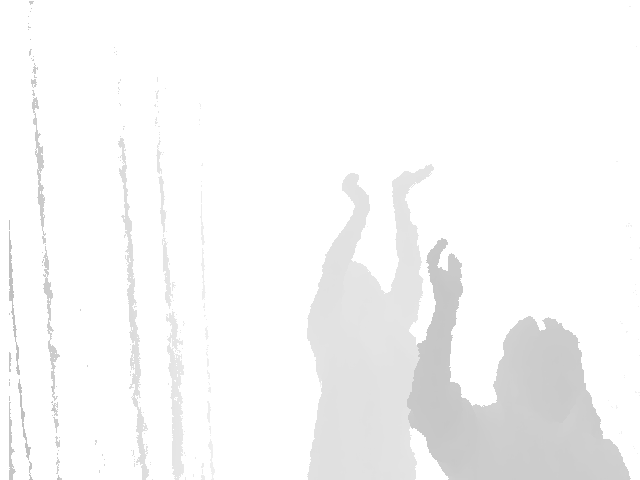hand: (426, 238, 463, 309), (392, 164, 432, 200), (341, 173, 370, 213)
head: (491, 316, 597, 416)
person: (406, 238, 633, 480), (303, 165, 424, 480)
